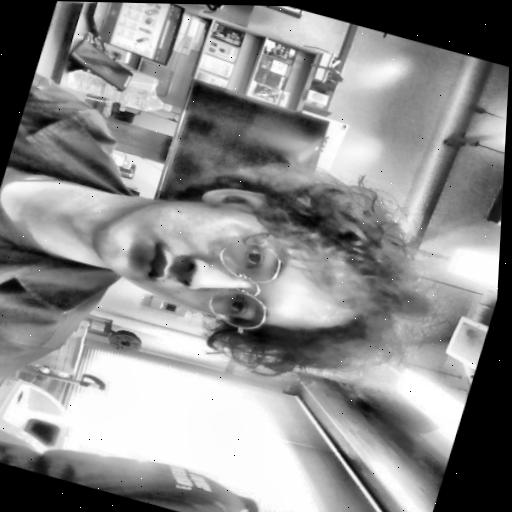Daifuku: (70, 138, 449, 402)
Not Daifuku: (228, 500, 348, 512)
